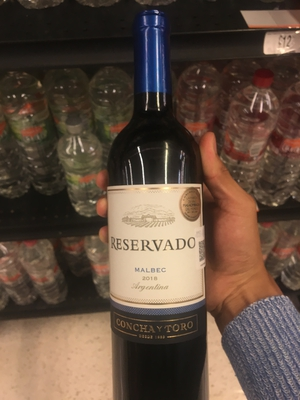reservado malbec: (106, 16, 205, 400)
